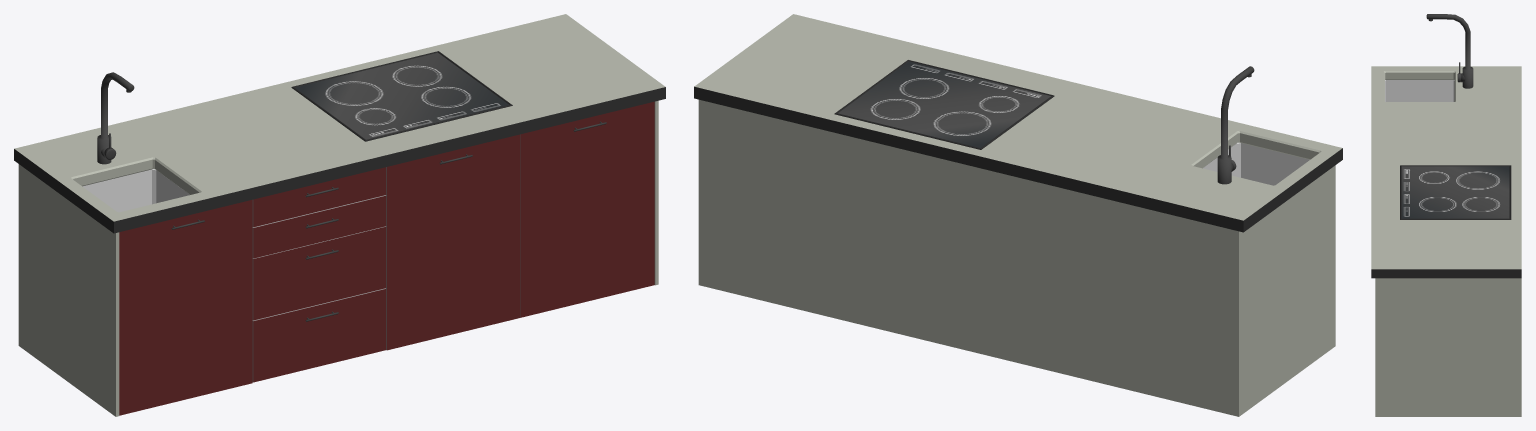
Rendered from kitchen_module.obj.
3 views of the same model, side by side, from view 1: azimuth 30°, elevation 25°; view 2: azimuth 150°, elevation 25°; view 3: azimuth 270°, elevation 25° (orthographic). The views are drawn at different scales.
Parts seen in each view (by area): view 1: mesa_cocina_Cube, vitroceramica_Cube.001, grifo_cocina_Cylinder, mesa_cocina.001_Cube.002; view 2: mesa_cocina_Cube, vitroceramica_Cube.001, grifo_cocina_Cylinder; view 3: mesa_cocina_Cube, vitroceramica_Cube.001, grifo_cocina_Cylinder.
Boxes of the visible parts, x1,y1,x2,y2 form: mesa_cocina_Cube: [14, 14, 665, 416]; vitroceramica_Cube.001: [291, 51, 512, 141]; grifo_cocina_Cylinder: [97, 72, 134, 164]; mesa_cocina.001_Cube.002: [171, 121, 606, 321]; mesa_cocina_Cube: [694, 14, 1342, 416]; vitroceramica_Cube.001: [834, 60, 1054, 149]; grifo_cocina_Cylinder: [1217, 66, 1254, 184]; mesa_cocina_Cube: [1371, 66, 1521, 416]; vitroceramica_Cube.001: [1400, 165, 1511, 219]; grifo_cocina_Cylinder: [1426, 14, 1473, 88].
Size of the model in its own units: 243 by 124 by 75.98.
8 materials, 1 textured.
